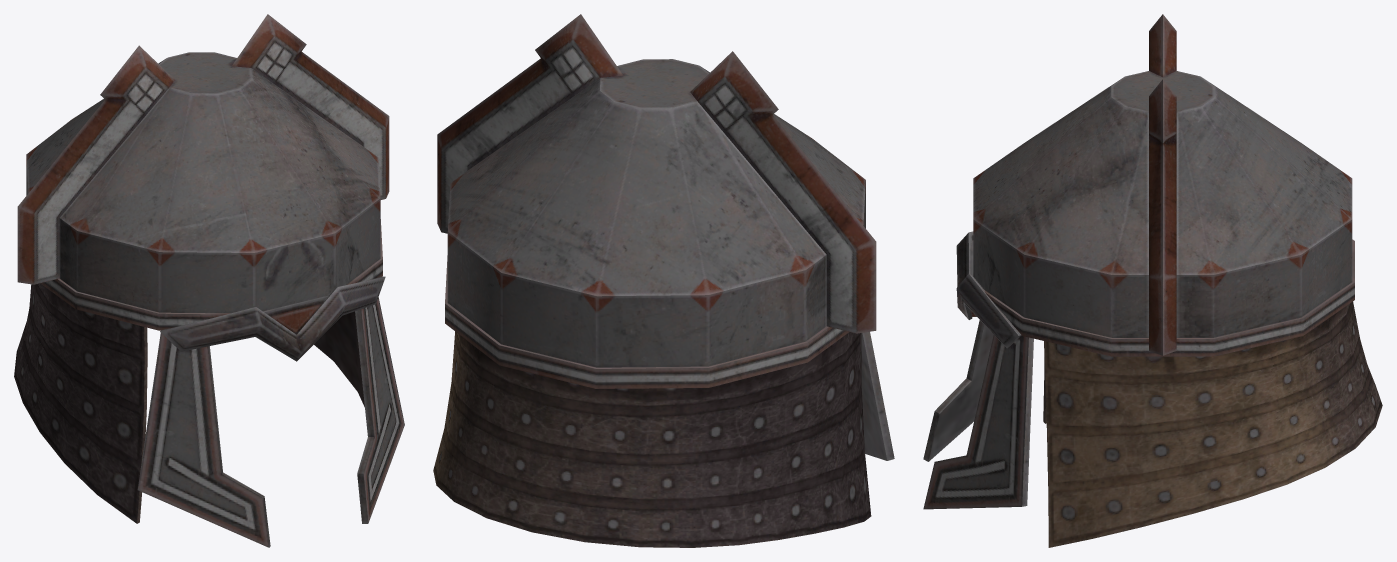
Rendered from sk_dwarf_iron_helmet_med_c2.fbx.
3 renders of one model, left to right at view 1: azimuth 30°, elevation 25°; view 2: azimuth 150°, elevation 25°; view 3: azimuth 270°, elevation 25°, orthographic. The views are drawn at different scales.
Visible parts, largest first — view 1: sk_dwarf_iron_helmet_med_c2.0, sk_dwarf_iron_helmet_med_c2.1; view 2: sk_dwarf_iron_helmet_med_c2.0, sk_dwarf_iron_helmet_med_c2.1; view 3: sk_dwarf_iron_helmet_med_c2.0, sk_dwarf_iron_helmet_med_c2.1.
Boxes of the visible parts, bbox=[...] form: sk_dwarf_iron_helmet_med_c2.0: bbox=[17, 14, 404, 547]; sk_dwarf_iron_helmet_med_c2.1: bbox=[14, 283, 364, 523]; sk_dwarf_iron_helmet_med_c2.0: bbox=[437, 14, 894, 460]; sk_dwarf_iron_helmet_med_c2.1: bbox=[433, 331, 871, 547]; sk_dwarf_iron_helmet_med_c2.0: bbox=[923, 14, 1354, 509]; sk_dwarf_iron_helmet_med_c2.1: bbox=[1043, 301, 1382, 547].
Size of the model in its own units: 0.3211 by 0.331 by 0.3488.
